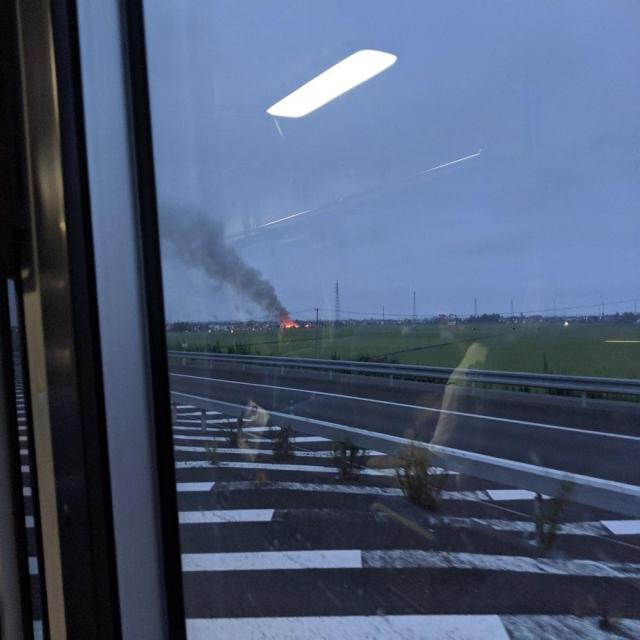Fire: (282, 321, 299, 328)
